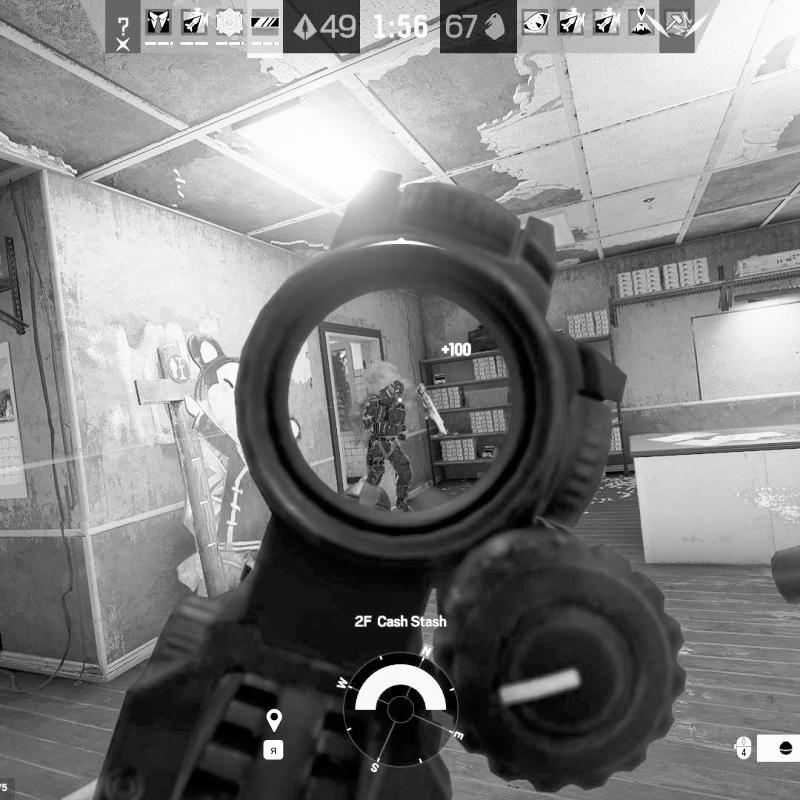Character: (361, 378, 414, 515)
Head: (386, 379, 405, 398)
